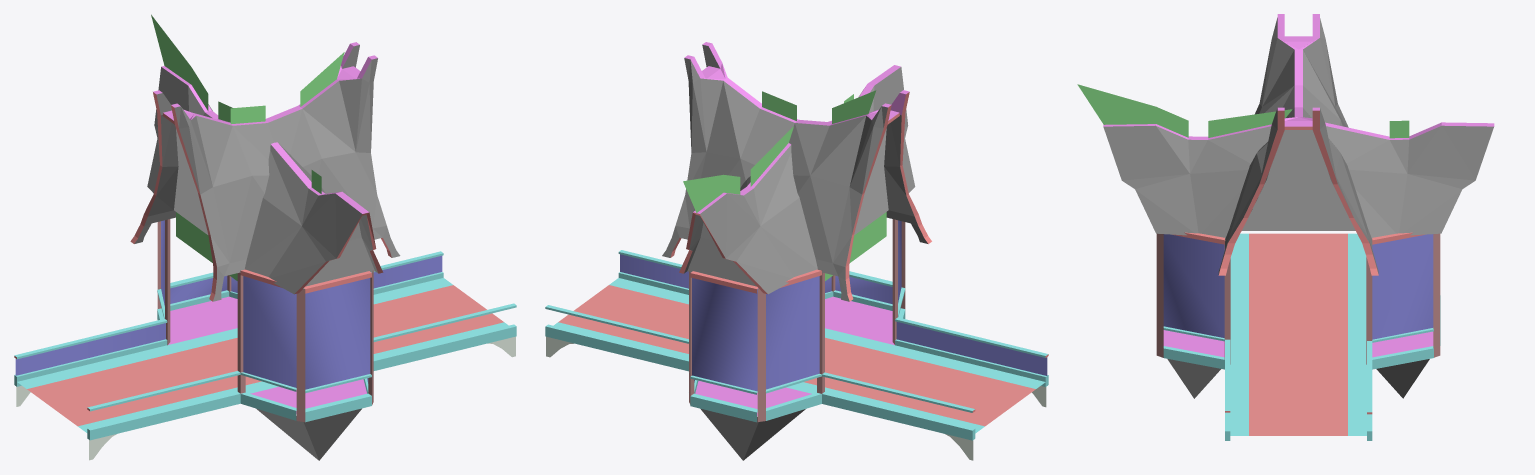
File: bridg_ent.gltf
The picture shows the model from 3 angles, left to right: view 1: azimuth 30°, elevation 25°; view 2: azimuth 150°, elevation 25°; view 3: azimuth 270°, elevation 25°; orthographic projection. The views are drawn at different scales.
Parts seen in each view (by area): view 1: bridg_ent; view 2: bridg_ent; view 3: bridg_ent.
Part boxes in pixels (<box>): bridg_ent: <box>14,14,516,460</box>; bridg_ent: <box>545,42,1048,460</box>; bridg_ent: <box>1077,14,1494,440</box>.
Bounding box in the file's own units: 8.96 × 7.04 × 8.31.
